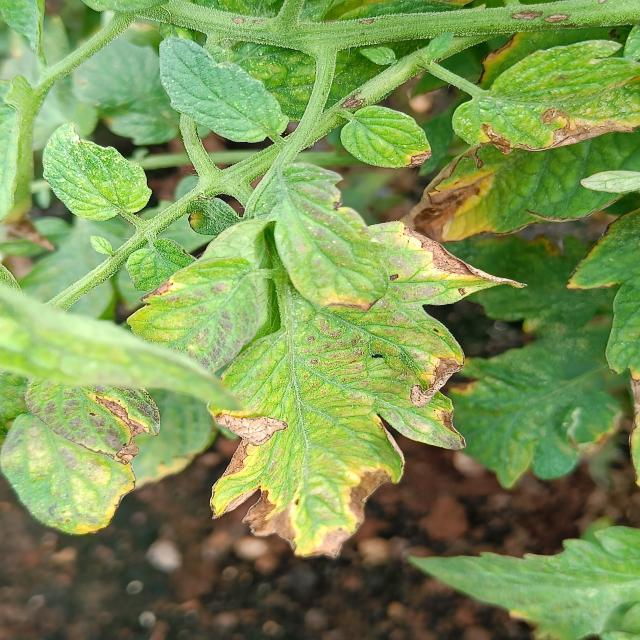Tomato mosaic virus leaf: (374, 220, 534, 455), (450, 39, 640, 154), (338, 102, 437, 172)
